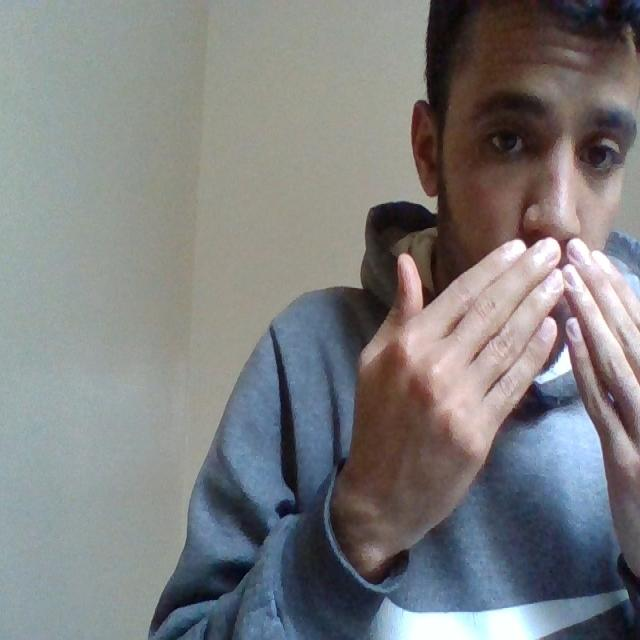Thanks: (327, 227, 639, 590)
